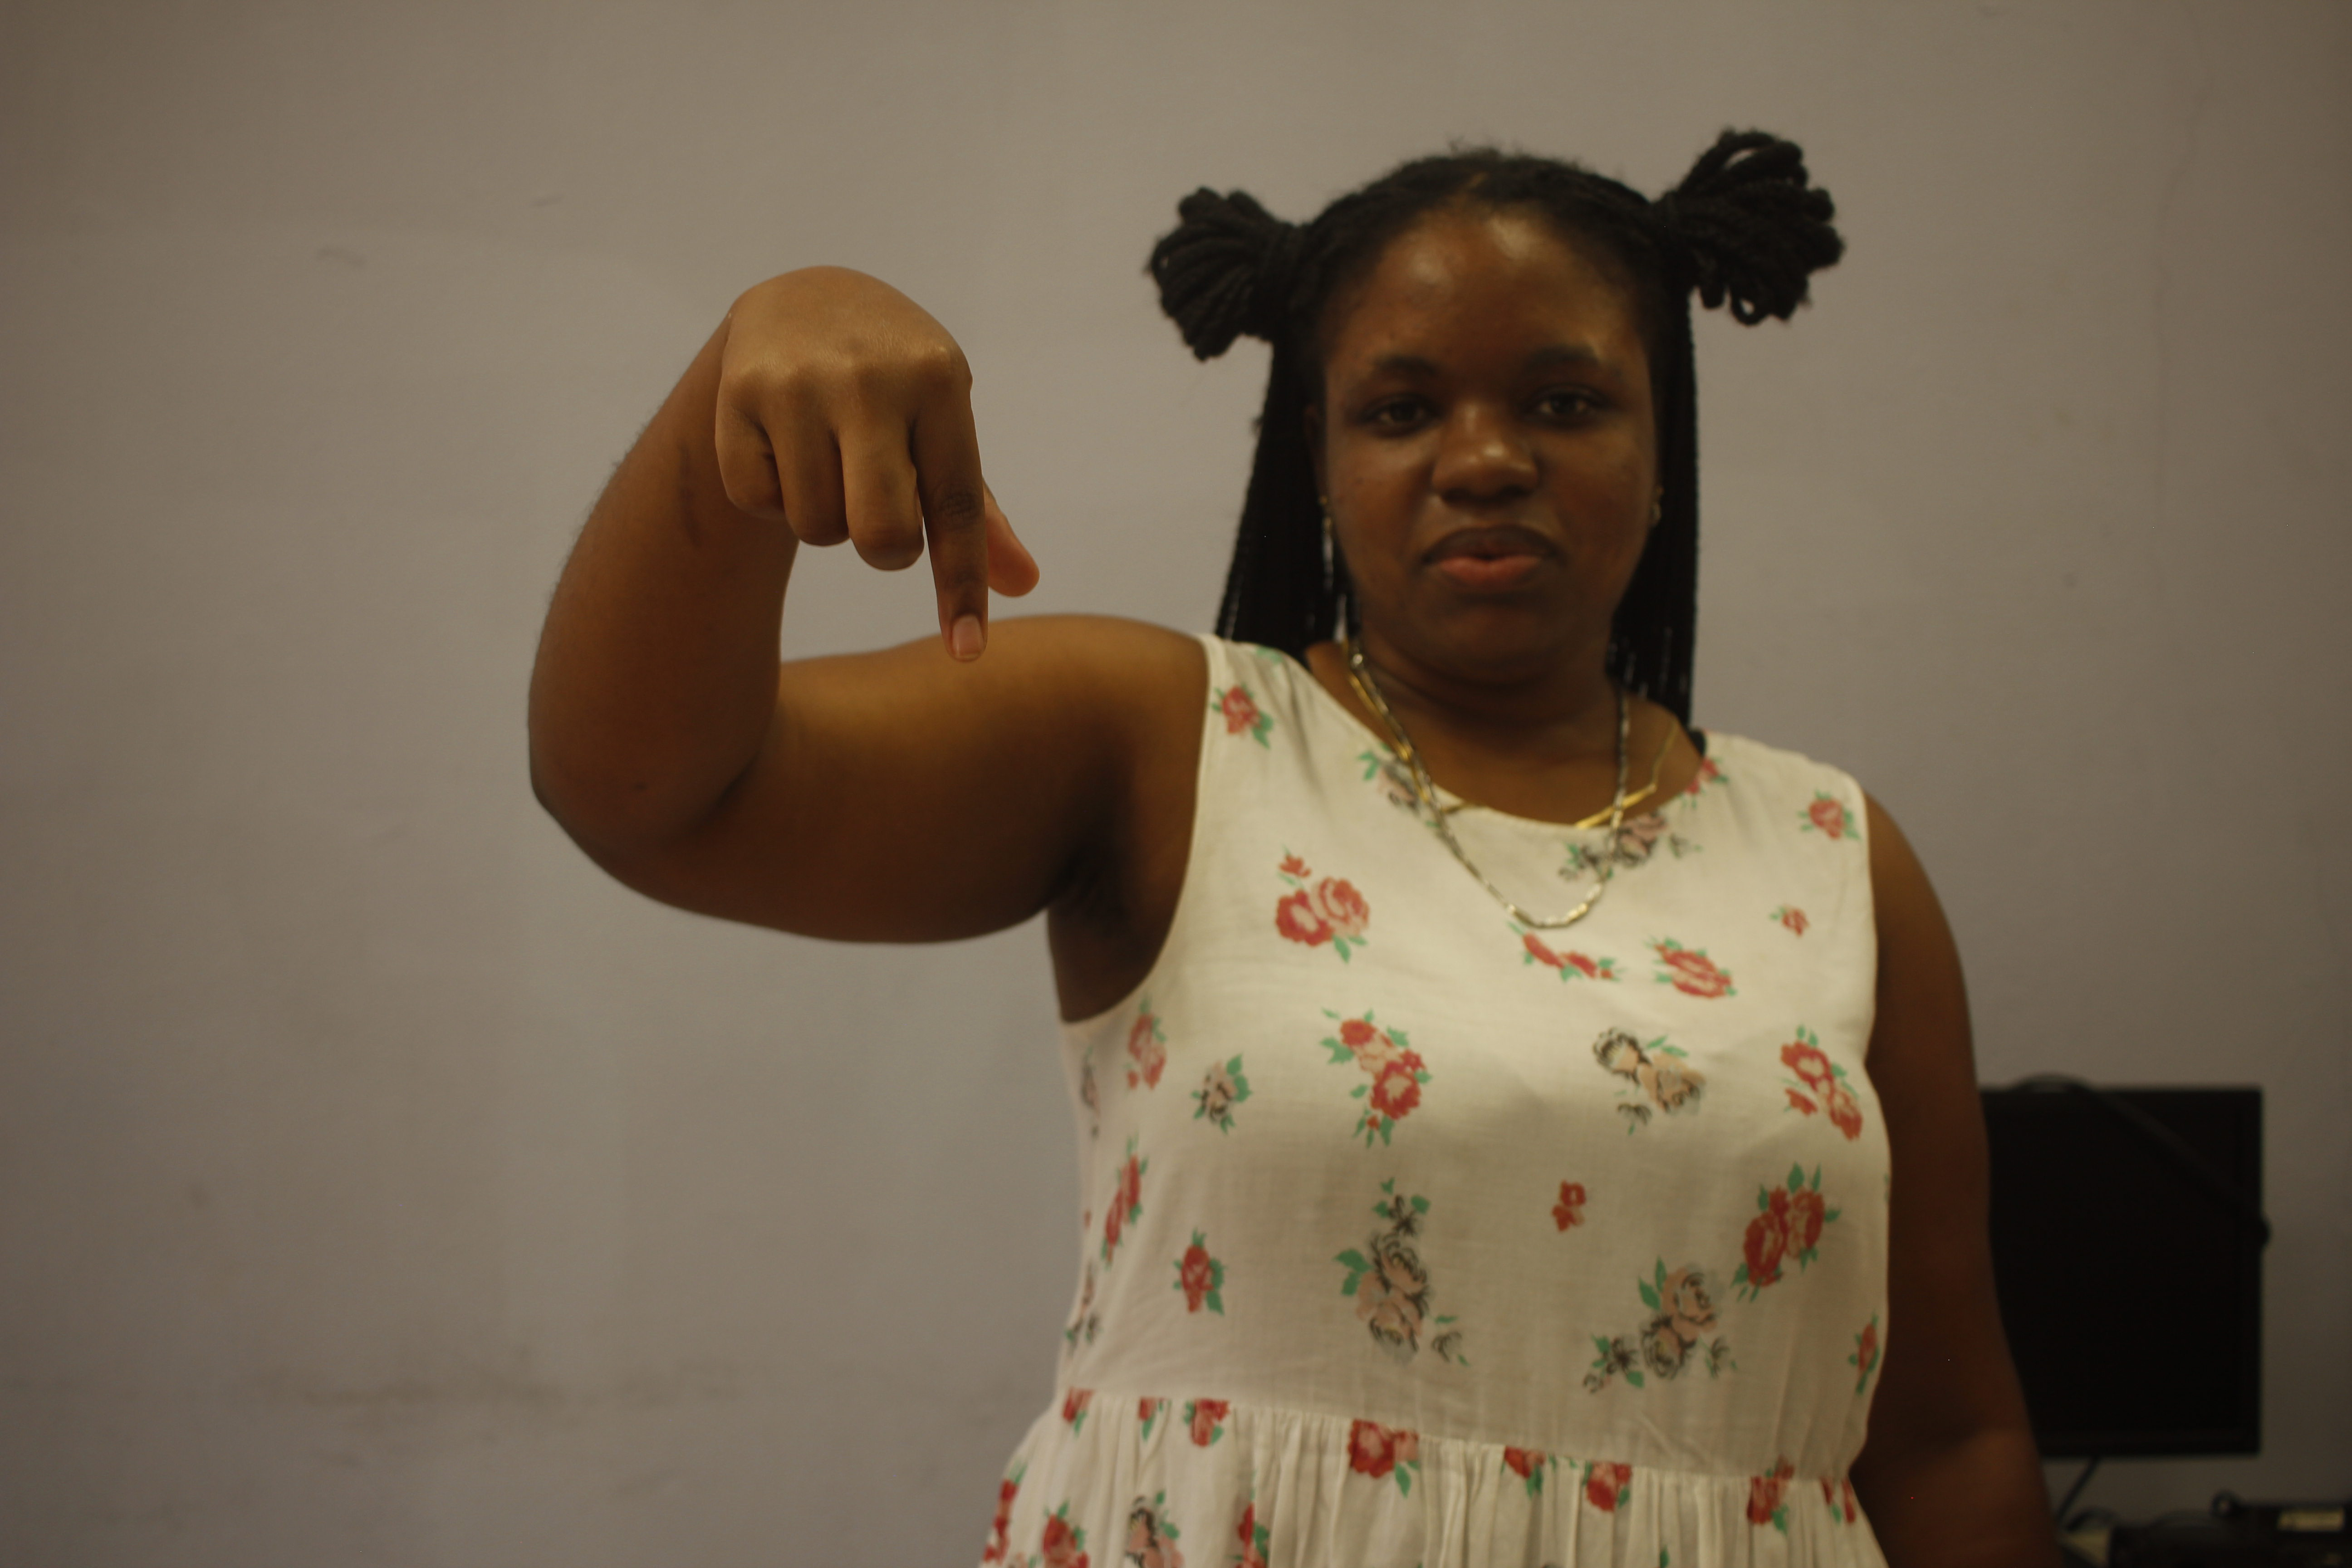Q: (689, 259, 1050, 670)
